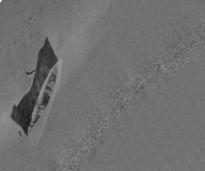ship: (26, 58, 60, 146)
